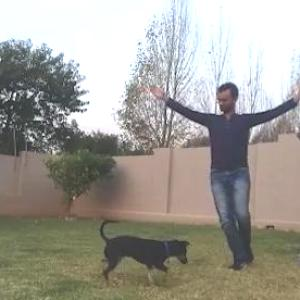takeoff: (146, 79, 299, 273)
